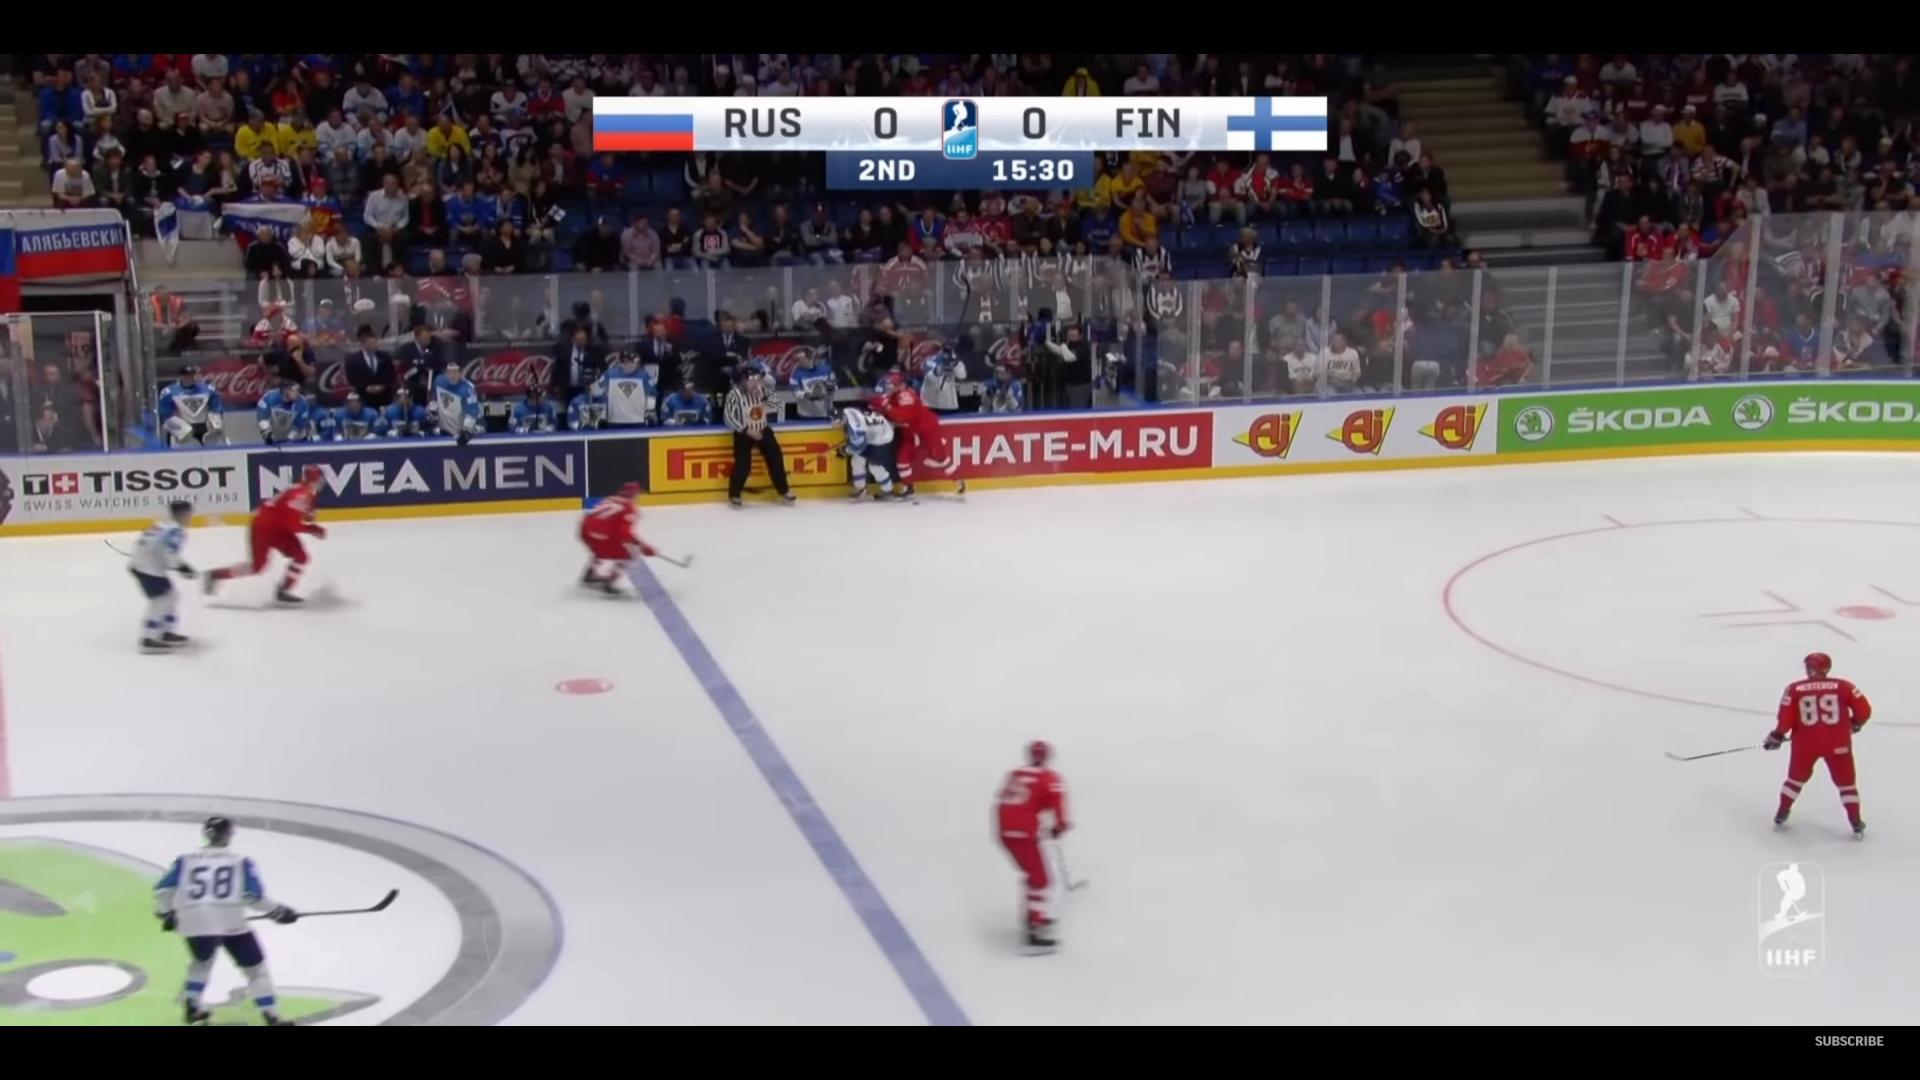puck: (913, 501, 919, 505)
